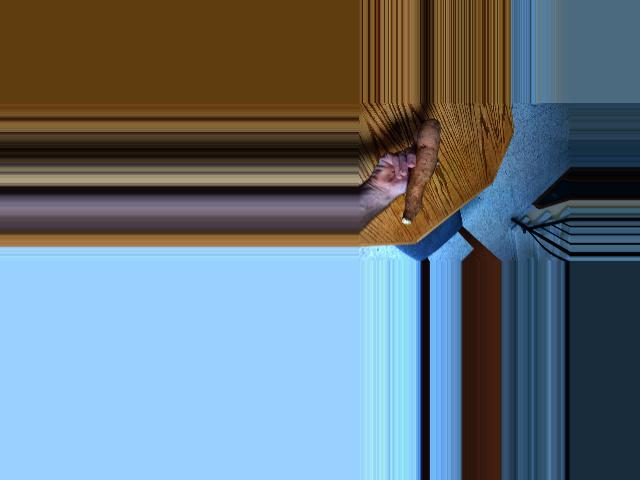sweet_potato: (395, 121, 446, 223)
